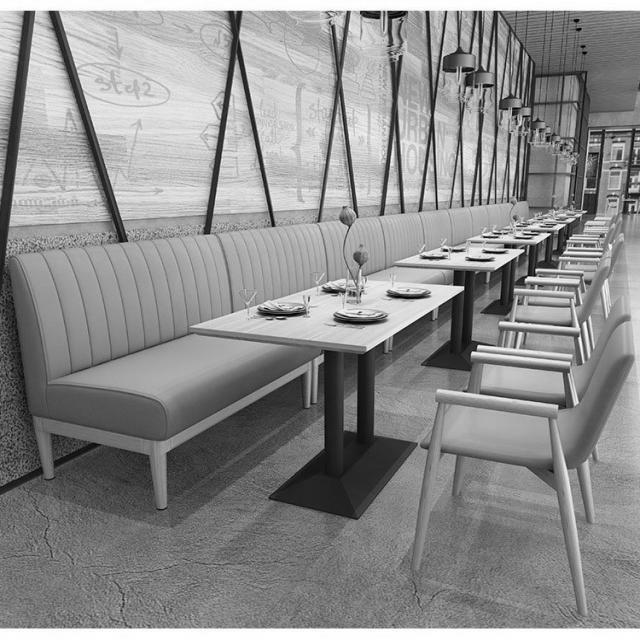table: (194, 264, 464, 373), (407, 220, 529, 286)
